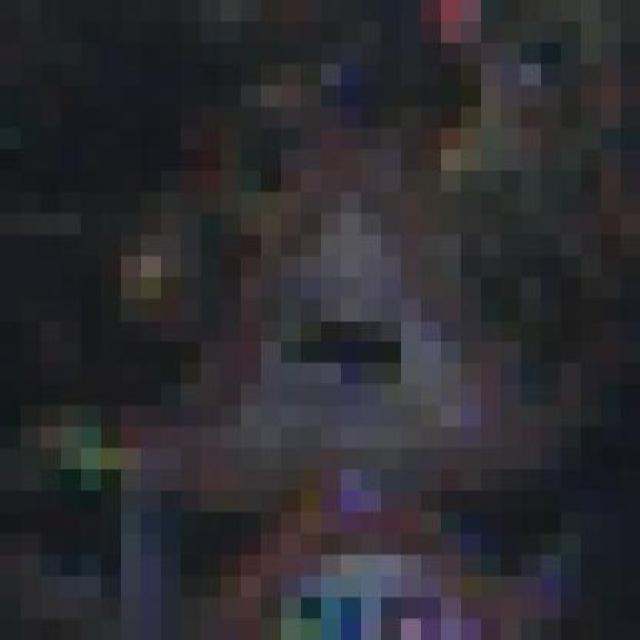Slippery Road Ahead: (155, 132, 534, 516)
